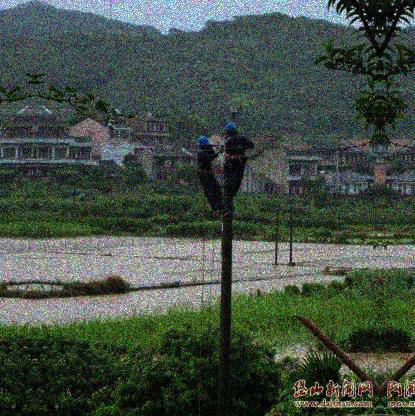helmet: (198, 135, 210, 150), (224, 122, 235, 135)
